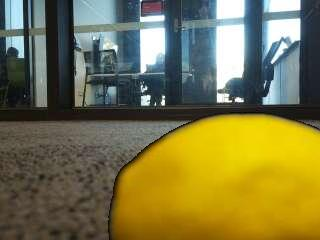lemon: (113, 116, 320, 240)
